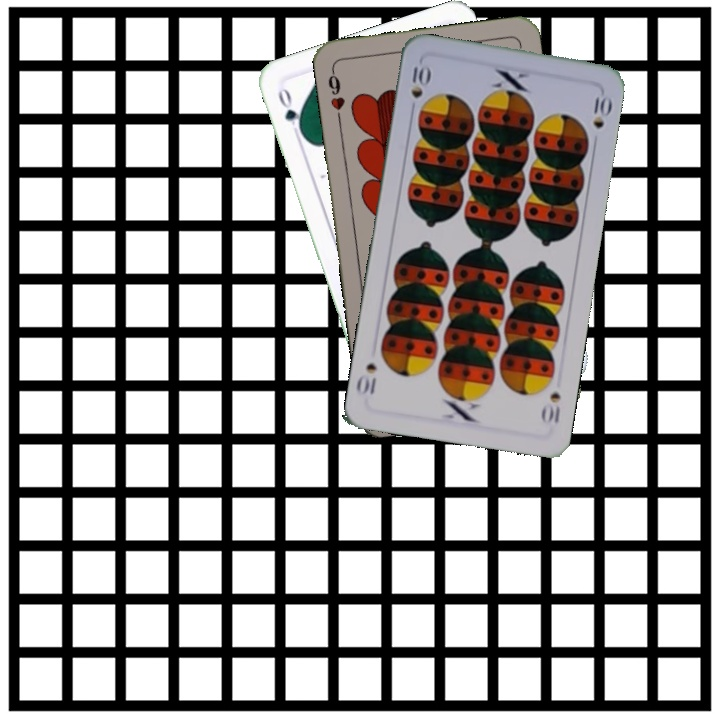GO: (273, 83, 306, 141)
H9: (324, 65, 348, 124)
S10: (537, 388, 563, 427), (407, 61, 432, 101)
